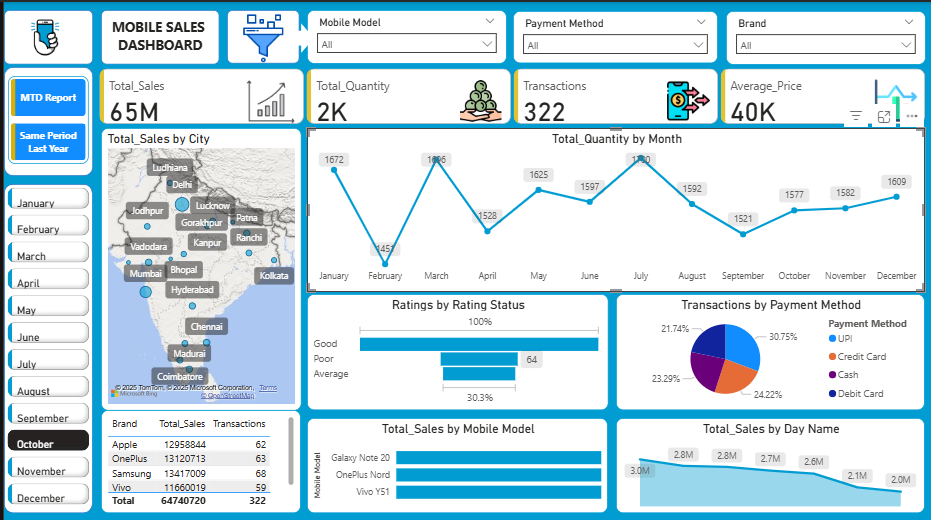

This screenshot's page, from the dashboard's own definition file:
{"tool":"powerbi","page":{"name":"Dashboard","canvas":[1280,720],"ordinal":0},"visuals":[{"type":"shape","box":[0,11.6,122.9,75.2],"z":0},{"type":"image","box":[14.5,11.6,83.9,75.2],"z":1000},{"type":"shape","box":[0,89.6,122.9,150.4],"z":2000},{"type":"shape","box":[0,250.5,122.5,452.8],"z":3000},{"type":"advancedSlicerVisual","fields":{"Values":["Custom_Calendar.Date.Variation.Date Hierarchy.Month"]},"box":[0,250.5,122.5,452.8],"z":4000},{"type":"cardVisual","fields":{"Data":["Mobile_Sales_Data.Total_Sales","Mobile_Sales_Data.Total_Quantity","Mobile_Sales_Data.Transactions","Mobile_Sales_Data.Average_Price"]},"box":[127.2,86.7,1146.5,86.7],"z":5000},{"type":"slicer","fields":{"Values":["Mobile_Sales_Data.Mobile Model"]},"box":[416.4,11.6,274.7,73.7],"z":6000},{"type":"slicer","fields":{"Values":["Mobile_Sales_Data.Payment Method"]},"box":[701.2,13,281.9,72.3],"z":7000},{"type":"slicer","fields":{"Values":["Mobile_Sales_Data.Brand"]},"box":[993.3,13,274.7,73.7],"z":8000},{"type":"shape","box":[306.5,11.6,99.8,73.7],"z":9000},{"type":"image","box":[273.3,11.6,166.3,78.1],"z":10000},{"type":"shape","box":[390.4,28.9,36.1,41.9],"z":11000},{"type":"shape","box":[133,11.6,163.4,75.2],"z":12000},{"type":"textbox","box":[140.2,15.9,148.9,63.6],"z":13000},{"type":"map","fields":{"Category":["Mobile_Sales_Data.City"],"Size":["Mobile_Sales_Data.Total_Sales"]},"box":[133,173.5,276.1,388.9],"z":14000},{"type":"lineChart","fields":{"Category":["Custom_Calendar.Date.Variation.Date Hierarchy.Month"],"Y":["Mobile_Sales_Data.Total_Quantity"]},"box":[416.4,173.5,851.6,225.5],"z":15000},{"type":"funnel","title":" Ratings by Rating Status","fields":{"Y":["CountNonNull(Mobile_Sales_Data.Customer Ratings)"],"Category":["Mobile_Sales_Data.Rating Status"]},"box":[416.4,401.9,414.9,160.5],"z":16000},{"type":"pieChart","fields":{"Category":["Mobile_Sales_Data.Payment Method"],"Y":["Mobile_Sales_Data.Transactions"]},"box":[842.9,401.9,425.1,160.5],"z":17000},{"type":"hundredPercentStackedBarChart","fields":{"Y":["Mobile_Sales_Data.Total_Sales"],"Category":["Mobile_Sales_Data.Mobile Model"]},"box":[417,572.6,414.3,130.8],"z":18000},{"type":"areaChart","fields":{"Category":["Custom_Calendar.Day Name"],"Y":["Mobile_Sales_Data.Total_Sales"]},"box":[842.3,572.6,425.3,130.8],"z":19000},{"type":"tableEx","fields":{"Values":["Mobile_Sales_Data.Brand","Mobile_Sales_Data.Total_Sales","Mobile_Sales_Data.Transactions"]},"box":[133.5,561.5,275.3,141.8],"z":20000},{"type":"pageNavigator","box":[5.8,101.2,111.3,121.4],"z":21000}]}

Visuals, with their boxes in screenshot pixels (x1, y1, x2, y2), scaled from the page's 1280x720 canvas onto the 931x520 screenshot:
shape: 0,8,89,63
image: 11,8,72,63
shape: 0,65,89,173
shape: 0,181,89,508
advancedSlicerVisual - Custom_Calendar.Date.Variation.Date Hierarchy.Month: 0,181,89,508
cardVisual - Mobile_Sales_Data.Total_Sales x Mobile_Sales_Data.Total_Quantity: 93,63,926,125
slicer - Mobile_Sales_Data.Mobile Model: 303,8,503,62
slicer - Mobile_Sales_Data.Payment Method: 510,9,715,62
slicer - Mobile_Sales_Data.Brand: 722,9,922,63
shape: 223,8,296,62
image: 199,8,320,65
shape: 284,21,310,51
shape: 97,8,216,63
textbox: 102,11,210,57
map - Mobile_Sales_Data.City x Mobile_Sales_Data.Total_Sales: 97,125,298,406
lineChart - Custom_Calendar.Date.Variation.Date Hierarchy.Month x Mobile_Sales_Data.Total_Quantity: 303,125,922,288
" Ratings by Rating Status" funnel: 303,290,605,406
pieChart - Mobile_Sales_Data.Payment Method x Mobile_Sales_Data.Transactions: 613,290,922,406
hundredPercentStackedBarChart - Mobile_Sales_Data.Total_Sales x Mobile_Sales_Data.Mobile Model: 303,414,605,508
areaChart - Custom_Calendar.Day Name x Mobile_Sales_Data.Total_Sales: 613,414,922,508
tableEx - Mobile_Sales_Data.Brand x Mobile_Sales_Data.Total_Sales: 97,406,297,508
pageNavigator: 4,73,85,161
